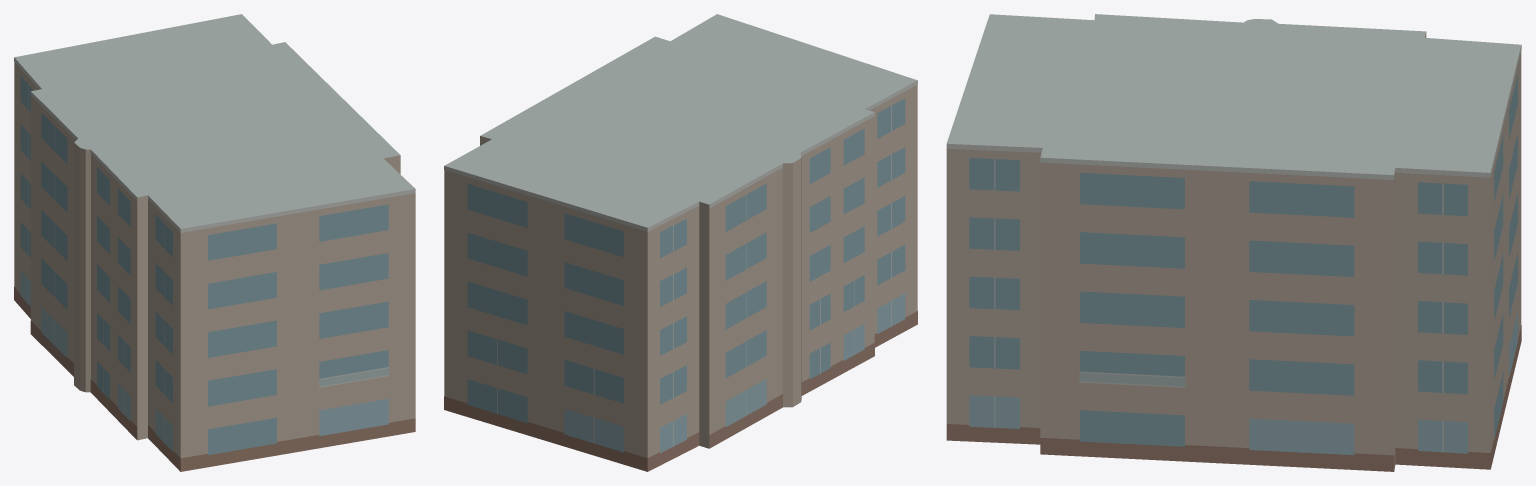
Rendered from survey-upis-32482118.glb.
The picture shows the model from 3 angles, left to right: view 1: azimuth 30°, elevation 25°; view 2: azimuth 150°, elevation 25°; view 3: azimuth 270°, elevation 25°; orthographic projection. The views are drawn at different scales.
Parts seen in each view (by area): view 1: survey-upis-32482118.tmp; view 2: survey-upis-32482118.tmp; view 3: survey-upis-32482118.tmp.
Boxes of the visible parts, x1,y1,x2,y2 form: survey-upis-32482118.tmp: (14,14,415,471); survey-upis-32482118.tmp: (444,14,917,471); survey-upis-32482118.tmp: (946,14,1521,471).
Bounding box in the file's own units: 17.19 × 14.75 × 25.91.
